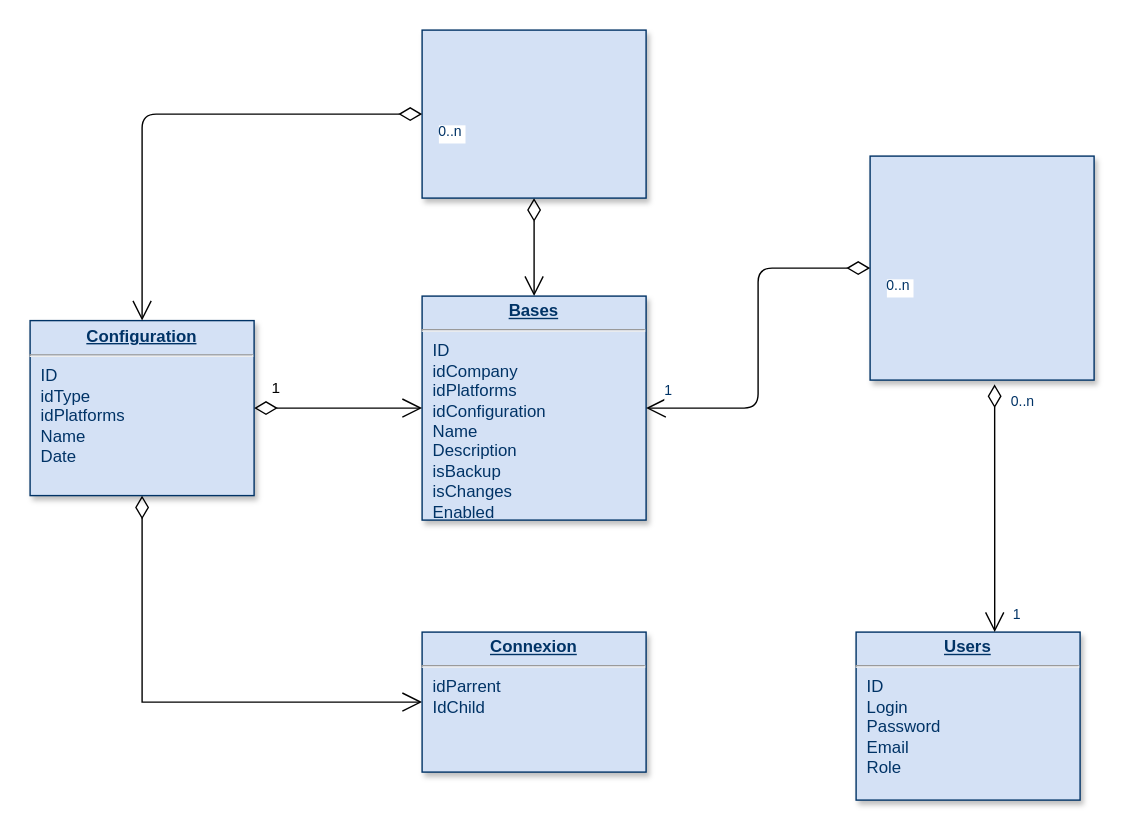
Some shapes in this 1127 by 834 pixel diagram are drawn without their labels. The shapes that lost their labels are listed below. From the top down, each one's centre as x and y in pixels, then its label:
(x=534, y=115): Platforms ID Name Description
(x=982, y=269): Company ID idUsers Name Description Picture Enabled
